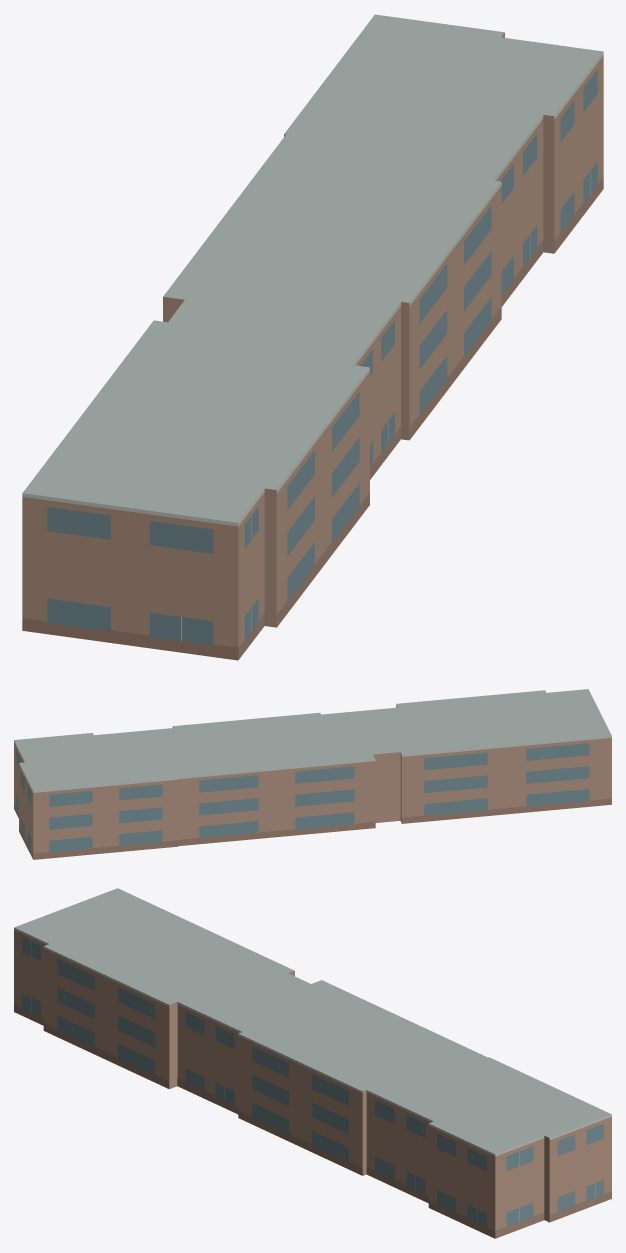
The model's file is survey-upis-32827167.glb.
The picture shows the model from 3 angles, top to bottom: view 1: azimuth 30°, elevation 25°; view 2: azimuth 150°, elevation 25°; view 3: azimuth 270°, elevation 25°; orthographic projection. The views are drawn at different scales.
Parts seen in each view (by area): view 1: survey-upis-32827167.tmp; view 2: survey-upis-32827167.tmp; view 3: survey-upis-32827167.tmp.
Boxes of the visible parts, x1,y1,x2,y2 form: survey-upis-32827167.tmp: [22, 14, 603, 660]; survey-upis-32827167.tmp: [14, 689, 611, 859]; survey-upis-32827167.tmp: [14, 888, 611, 1238].
Size of the model in its own units: 61.86 by 9.15 by 58.71.
